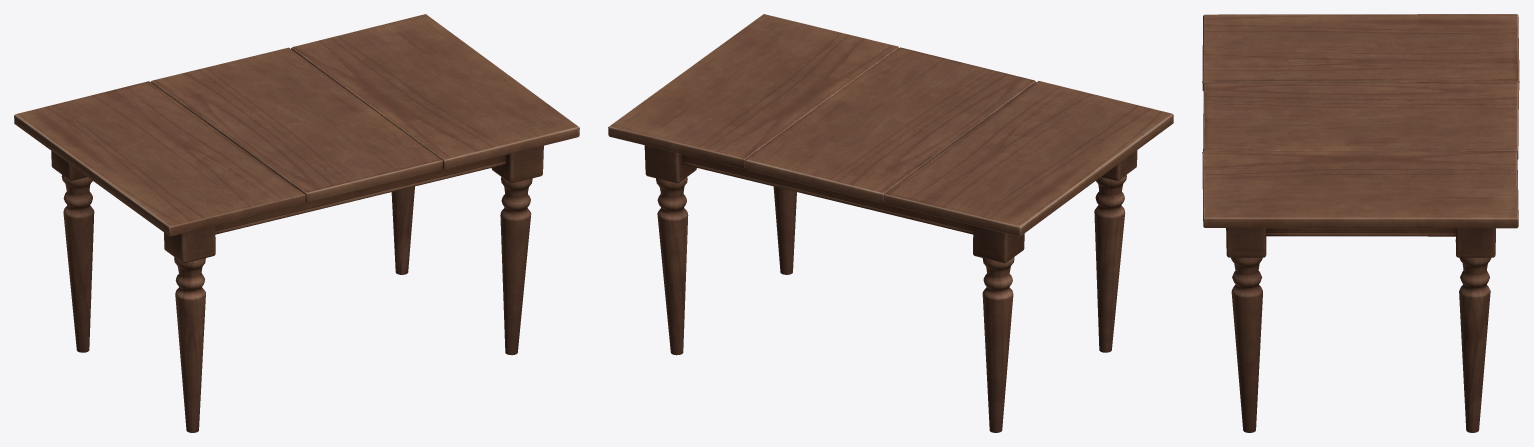
File: SM_KitchenTable.fbx
3 views of the same model, side by side, from view 1: azimuth 30°, elevation 25°; view 2: azimuth 150°, elevation 25°; view 3: azimuth 270°, elevation 25° (orthographic).
Visible parts, largest first — view 1: SM_KitchenTable_LOD0; view 2: SM_KitchenTable_LOD0; view 3: SM_KitchenTable_LOD0.
Boxes of the visible parts, bbox=[...] form: SM_KitchenTable_LOD0: bbox=[14, 14, 579, 432]; SM_KitchenTable_LOD0: bbox=[608, 14, 1173, 432]; SM_KitchenTable_LOD0: bbox=[1202, 14, 1519, 432].
Size of the model in its own units: 189 by 123 by 101.
1 material, 1 textured.
